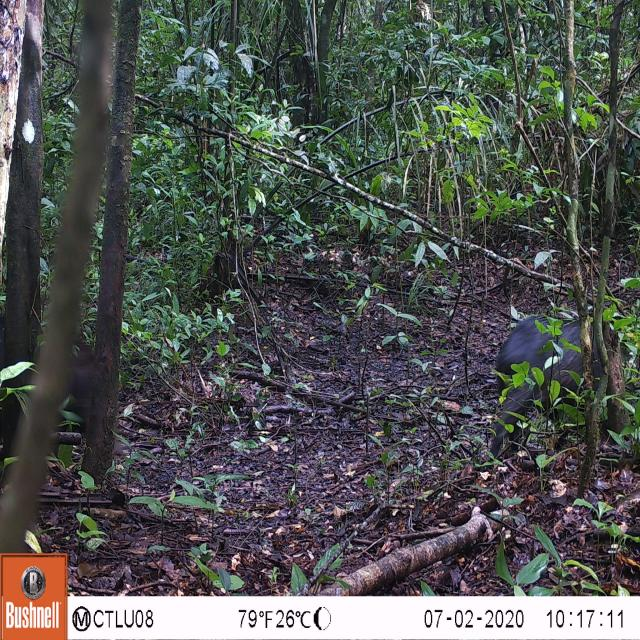Collared Peccary: (486, 306, 634, 472)
